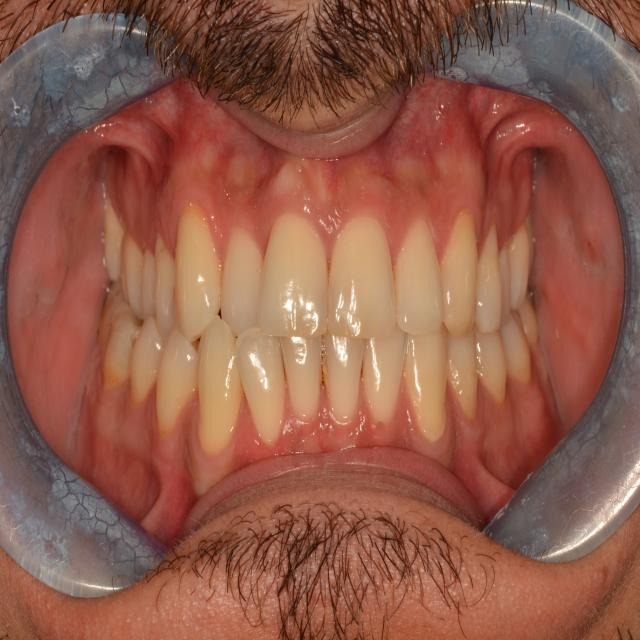tooth: (260, 218, 330, 346), (336, 239, 396, 343), (172, 224, 226, 337), (198, 322, 238, 446), (402, 336, 450, 438), (242, 332, 286, 442), (398, 228, 444, 331), (446, 226, 478, 332), (286, 337, 318, 433), (229, 239, 261, 334), (131, 317, 161, 401), (480, 231, 504, 332), (168, 342, 198, 422), (154, 241, 178, 335), (329, 352, 362, 419), (369, 342, 400, 411), (478, 330, 507, 396), (452, 351, 480, 416), (507, 227, 529, 304), (122, 237, 144, 308)
